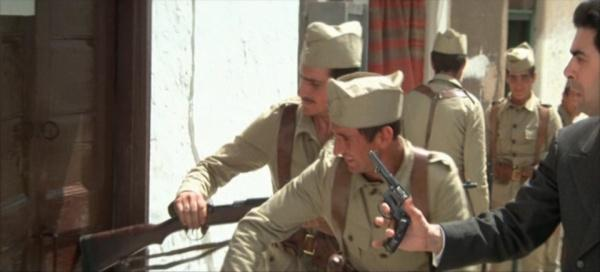Gun: (367, 147, 416, 254)
